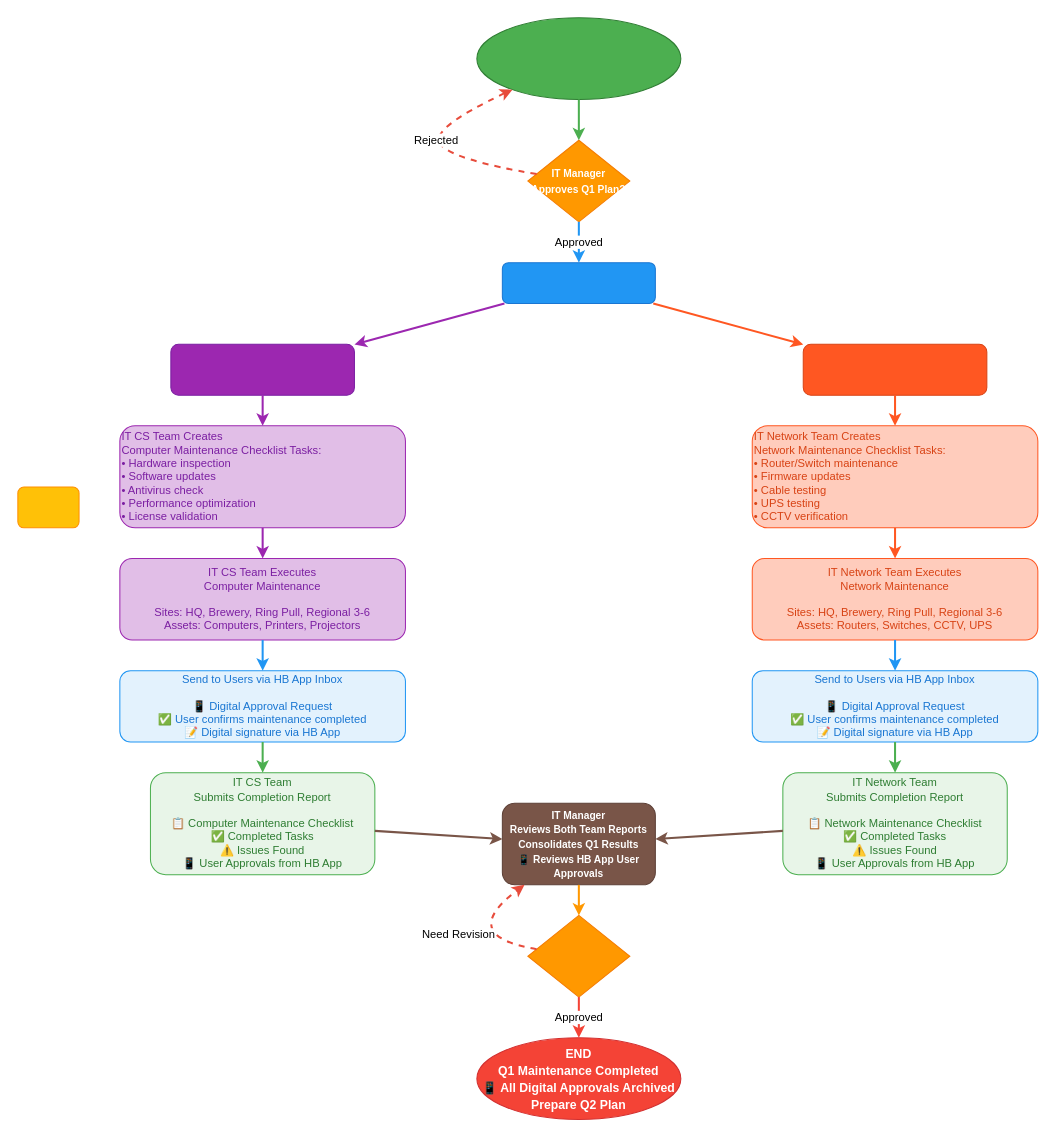
Some shapes in this 1056 by 1137 pixel diagram are drawn without their labels. Each missing label, with the box of its shape:
Assign Teams for Q1 Execution: (501, 262, 655, 303)
IT CS Team Computer Maintenance: (170, 343, 354, 395)
IT Manager Final Approval?: (527, 914, 630, 997)
IT Network Team Network Maintenance: (802, 343, 987, 395)
Q1 Execution: (17, 486, 79, 528)
START Quarterly IT Maintenance Plan IT Manager Authorization: (476, 17, 681, 99)
